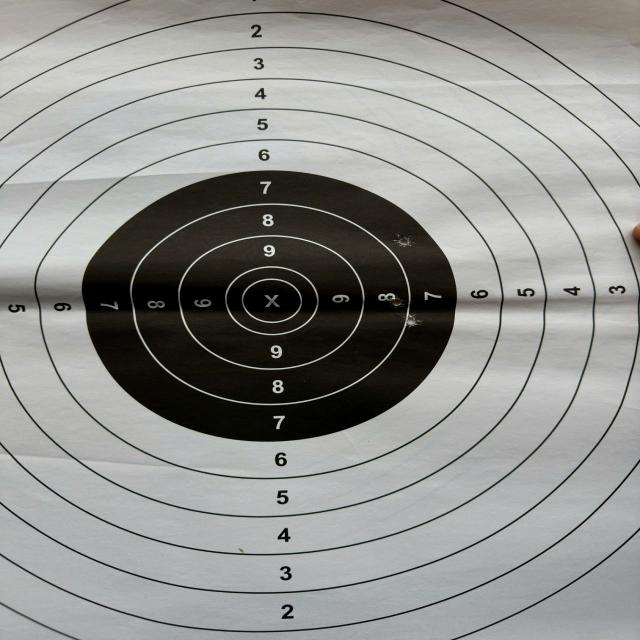bullet: (405, 315, 421, 327), (392, 297, 407, 308), (397, 236, 410, 245)
target: (0, 0, 638, 640)
